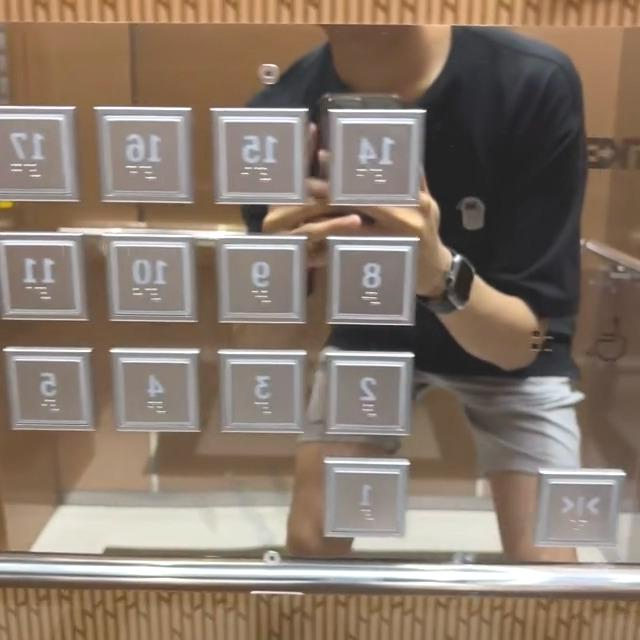button: (208, 113, 303, 211), (93, 115, 189, 209), (318, 110, 418, 200), (108, 346, 198, 446), (222, 236, 310, 329), (329, 235, 416, 327), (0, 234, 80, 334), (104, 239, 188, 331), (217, 355, 306, 437), (329, 354, 412, 441), (321, 463, 410, 544), (9, 349, 94, 433), (0, 108, 73, 198), (535, 474, 623, 547)
